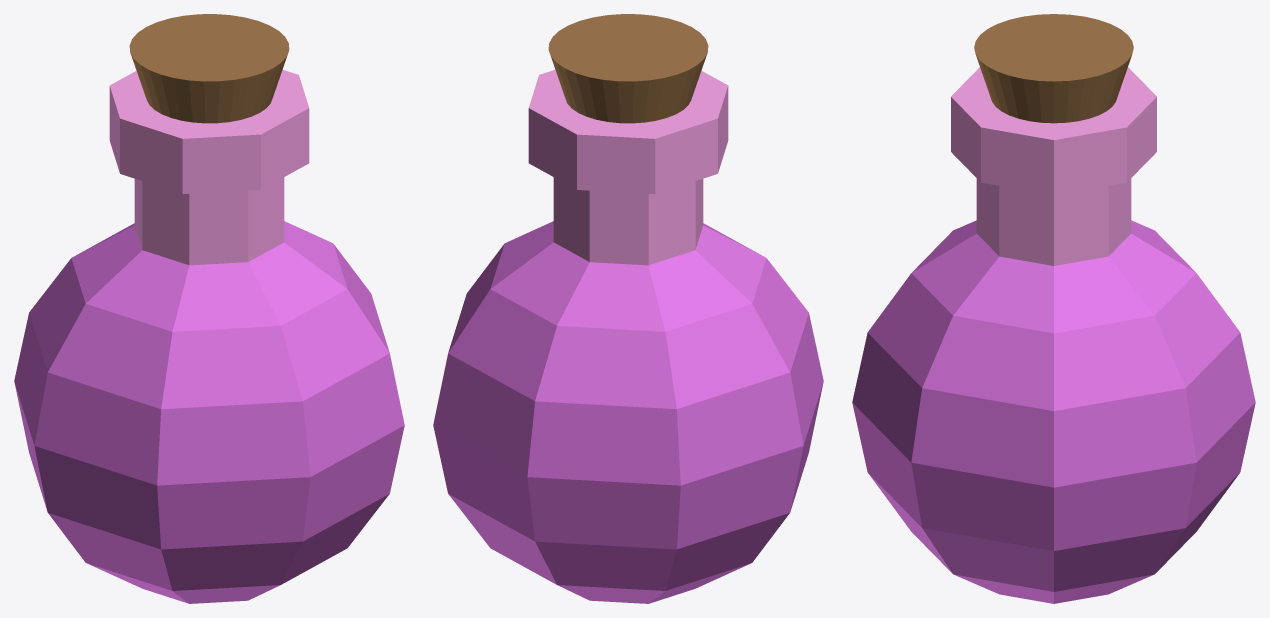
File: Potion1.fbx
3 renders of one model, left to right at view 1: azimuth 30°, elevation 25°; view 2: azimuth 150°, elevation 25°; view 3: azimuth 270°, elevation 25°, orthographic.
Visible parts, largest first — view 1: Potion1; view 2: Potion1; view 3: Potion1.
Part boxes in pixels (x1=…): Potion1: x1=14, y1=14, x2=404, y2=603; Potion1: x1=433, y1=14, x2=823, y2=603; Potion1: x1=852, y1=14, x2=1255, y2=603.
Size of the model in its own units: 200 by 294 by 200.
